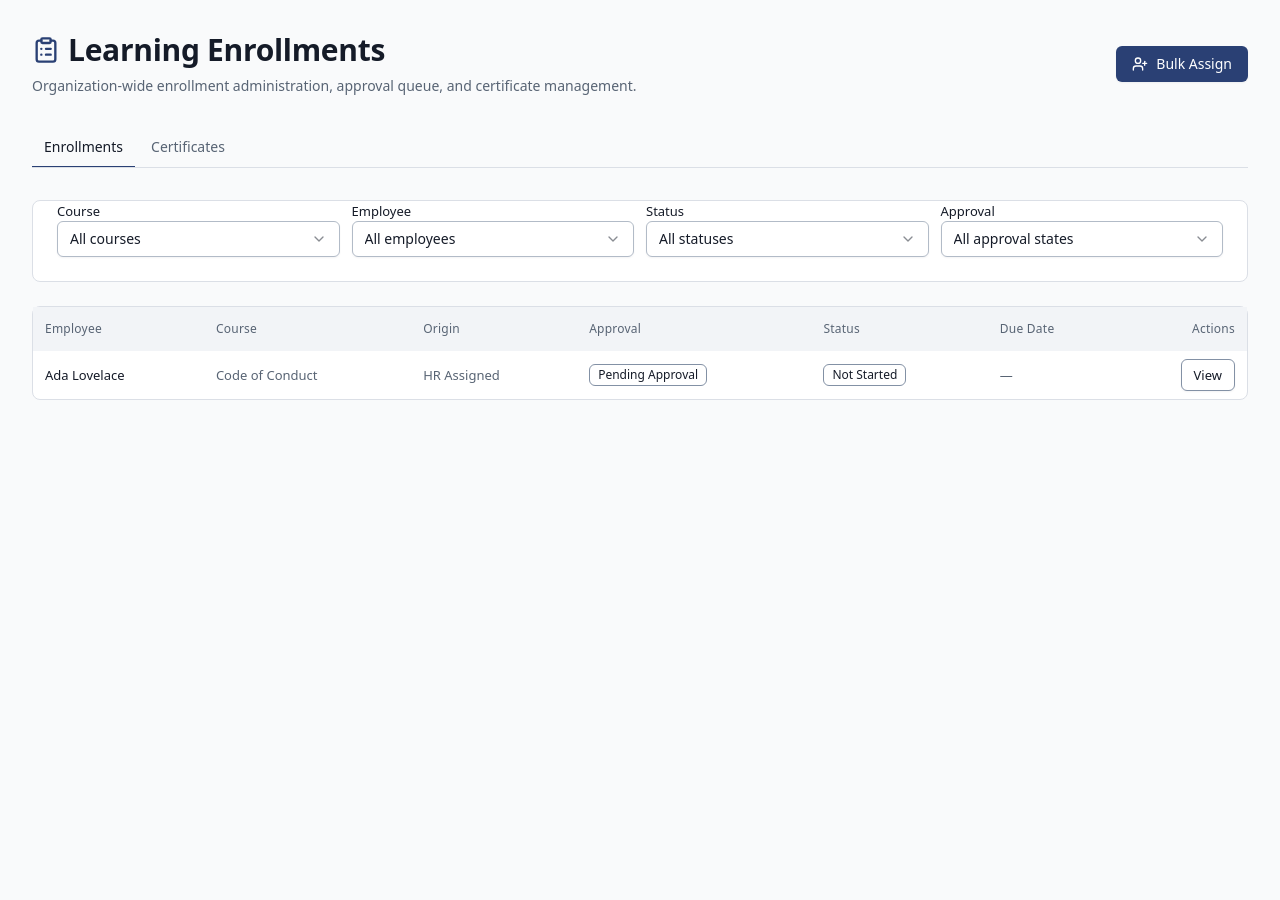
Test: Learning Enrollments (internal HR/L&D workspace) page › opens the detail dialog and shows approve/reject for a pending request
Click the button with test id "button-view-enrollment-1" at [1208, 375], box [1180,359,1235,391]
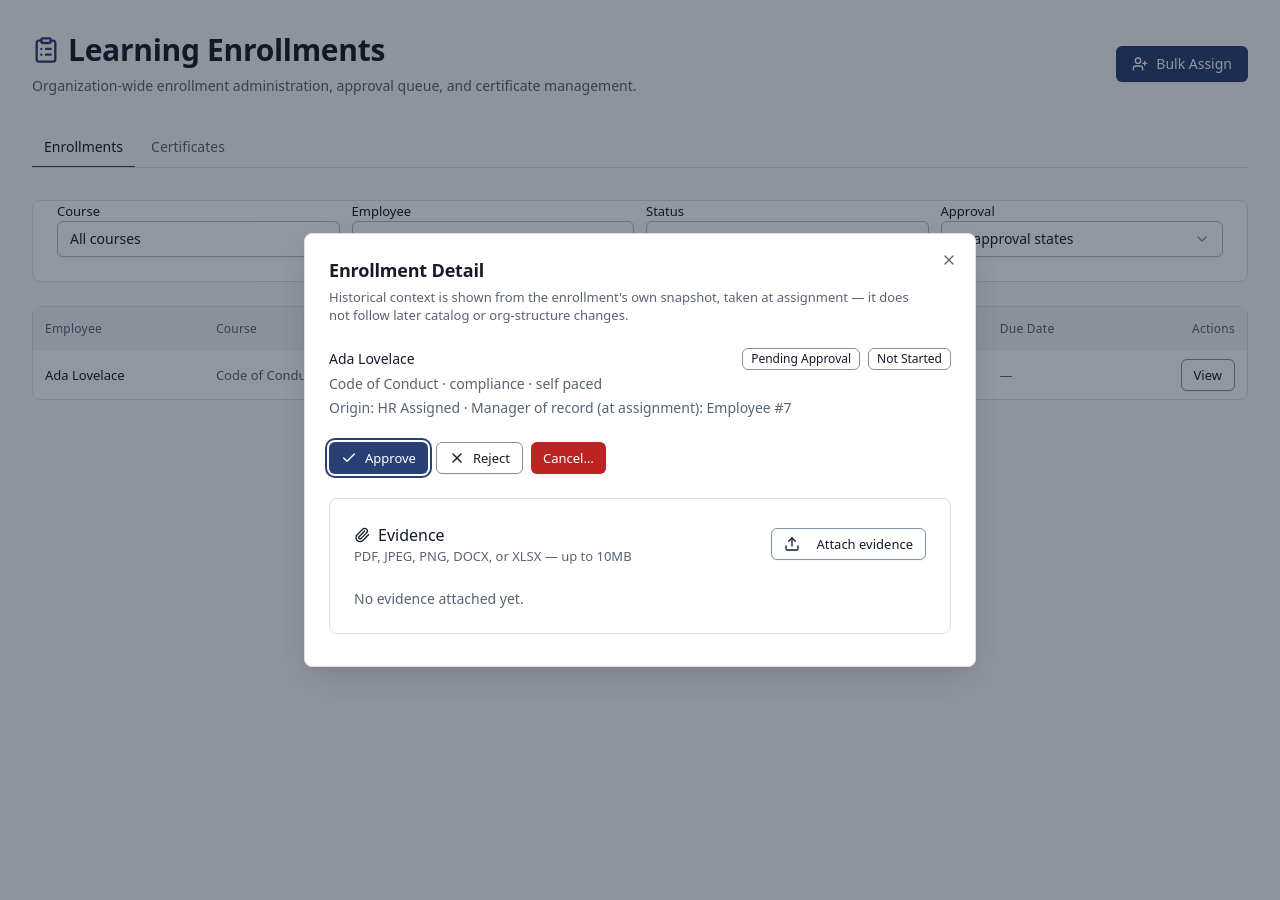
Result: the button with test id "button-approve-1" is shown at [329,442,428,474]
Result: the button with test id "button-reject-1" is shown at [436,442,523,474]
